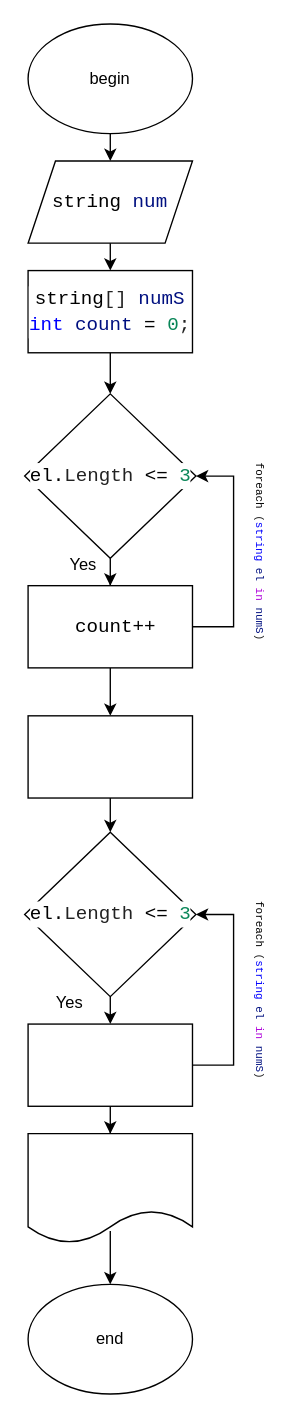
Some shapes in this 304 by 1418 pixel diagram are drawn without their labels. Here are the shapes that lost their labels. From the top down, the centre of each, then its label:
pixel 109 756: int i = 0 string [ ] Ar
pixel 109 1064: Ar [ i ] = el i ++
pixel 109 1187: Ar
